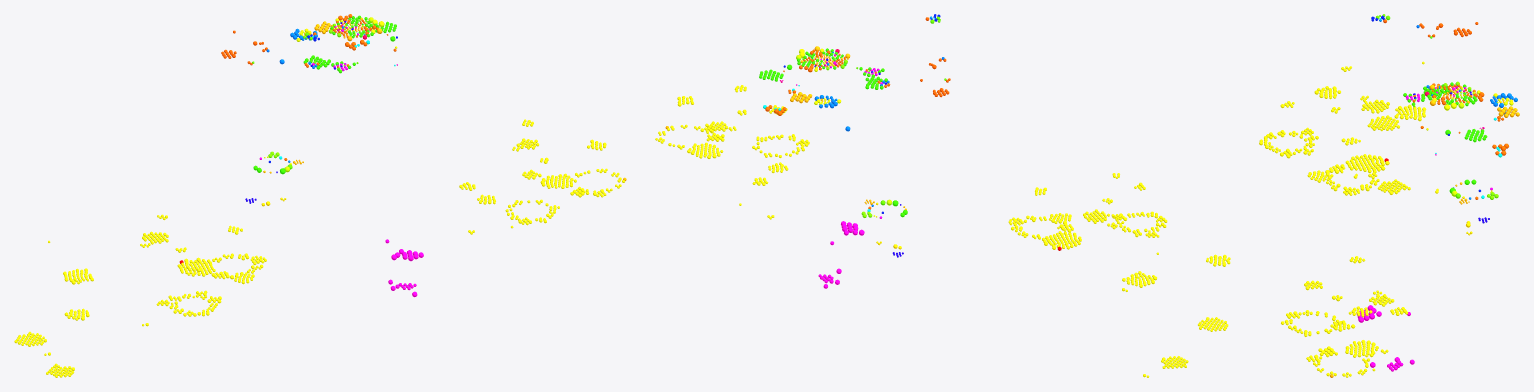
File: task-4dd0064f1-layout.gltf
3 views of the same model, side by side, from view 1: azimuth 30°, elevation 25°; view 2: azimuth 150°, elevation 25°; view 3: azimuth 270°, elevation 25° (orthographic). The views are drawn at different scales.
Visible parts, largest first — view 1: normal_java_files, normal_tar_files; view 2: normal_java_files, normal_tar_files, normal_zip_files; view 3: normal_java_files, normal_tar_files, normal_zip_files, normal_apk_files, normal_7z_files, normal_xml_files, normal_jar_files.
Boxes of the visible parts, x1,y1,x2,y2 form: normal_java_files: [14, 119, 624, 377]; normal_tar_files: [253, 15, 396, 174]; normal_java_files: [655, 85, 1230, 377]; normal_tar_files: [759, 48, 907, 217]; normal_zip_files: [765, 49, 890, 209]; normal_java_files: [1259, 61, 1438, 377]; normal_tar_files: [1403, 82, 1487, 193]; normal_zip_files: [1412, 83, 1508, 199]; normal_apk_files: [1356, 305, 1414, 371]; normal_7z_files: [1429, 84, 1519, 186]; normal_xml_files: [1383, 19, 1478, 103]; normal_jar_files: [1426, 85, 1517, 199].
Size of the model in its own units: 512 by 237 by 187.
